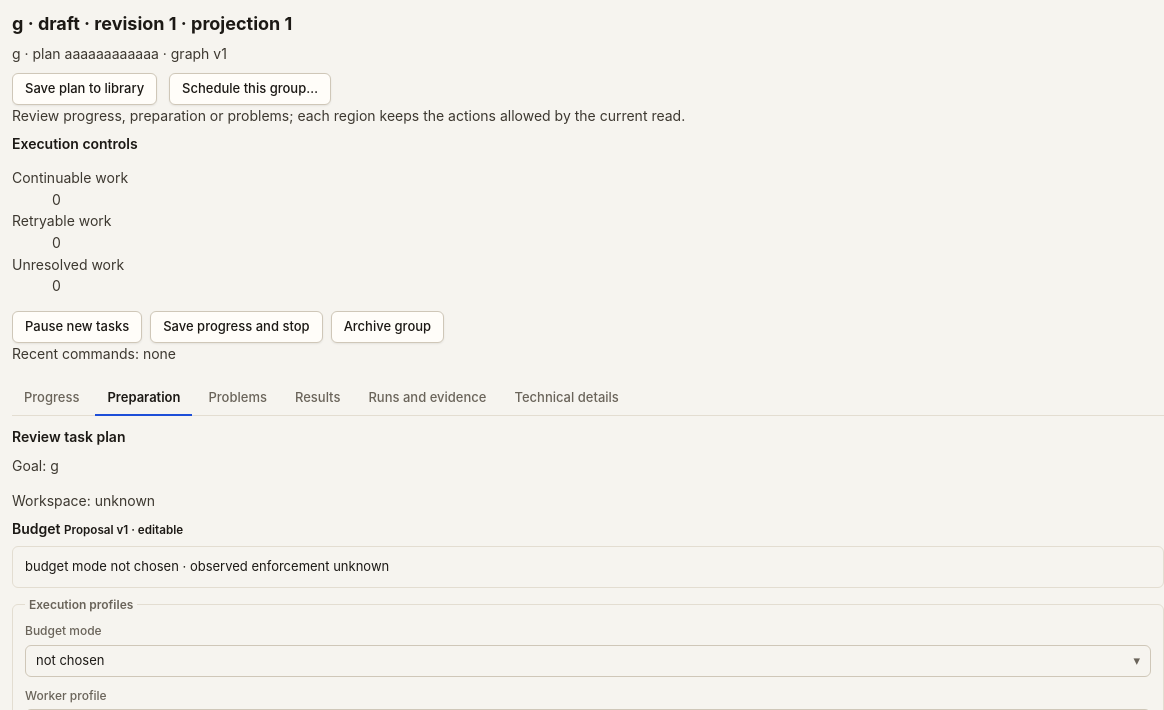
Test: an estimate's repairs and automatic retry (spec §4.4) › shows them in English
Click the tab "Technical details".
click(567, 399)  # box [502, 381, 631, 416]
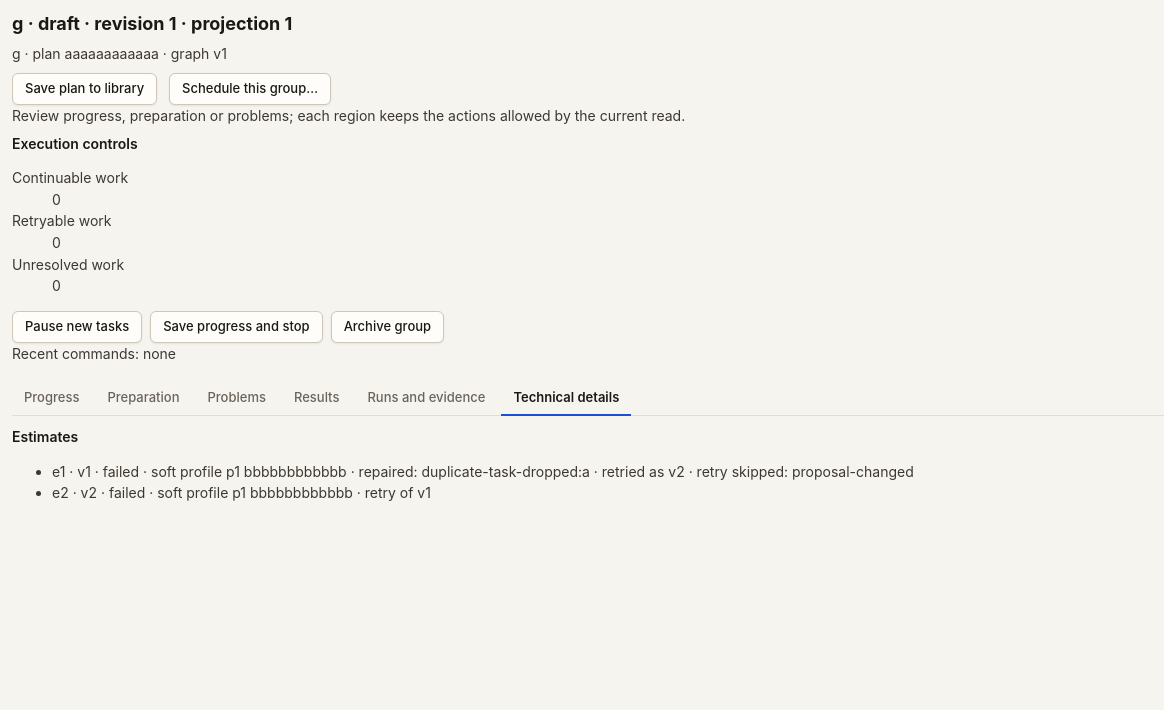
Expected: the text "repaired: duplicate-task-dropped:a" is shown, [347, 462, 590, 480]
Expected: the text "retried as v2" is shown, [590, 462, 685, 480]
Expected: the text "retry skipped: proposal-changed" is shown, [685, 462, 914, 480]
